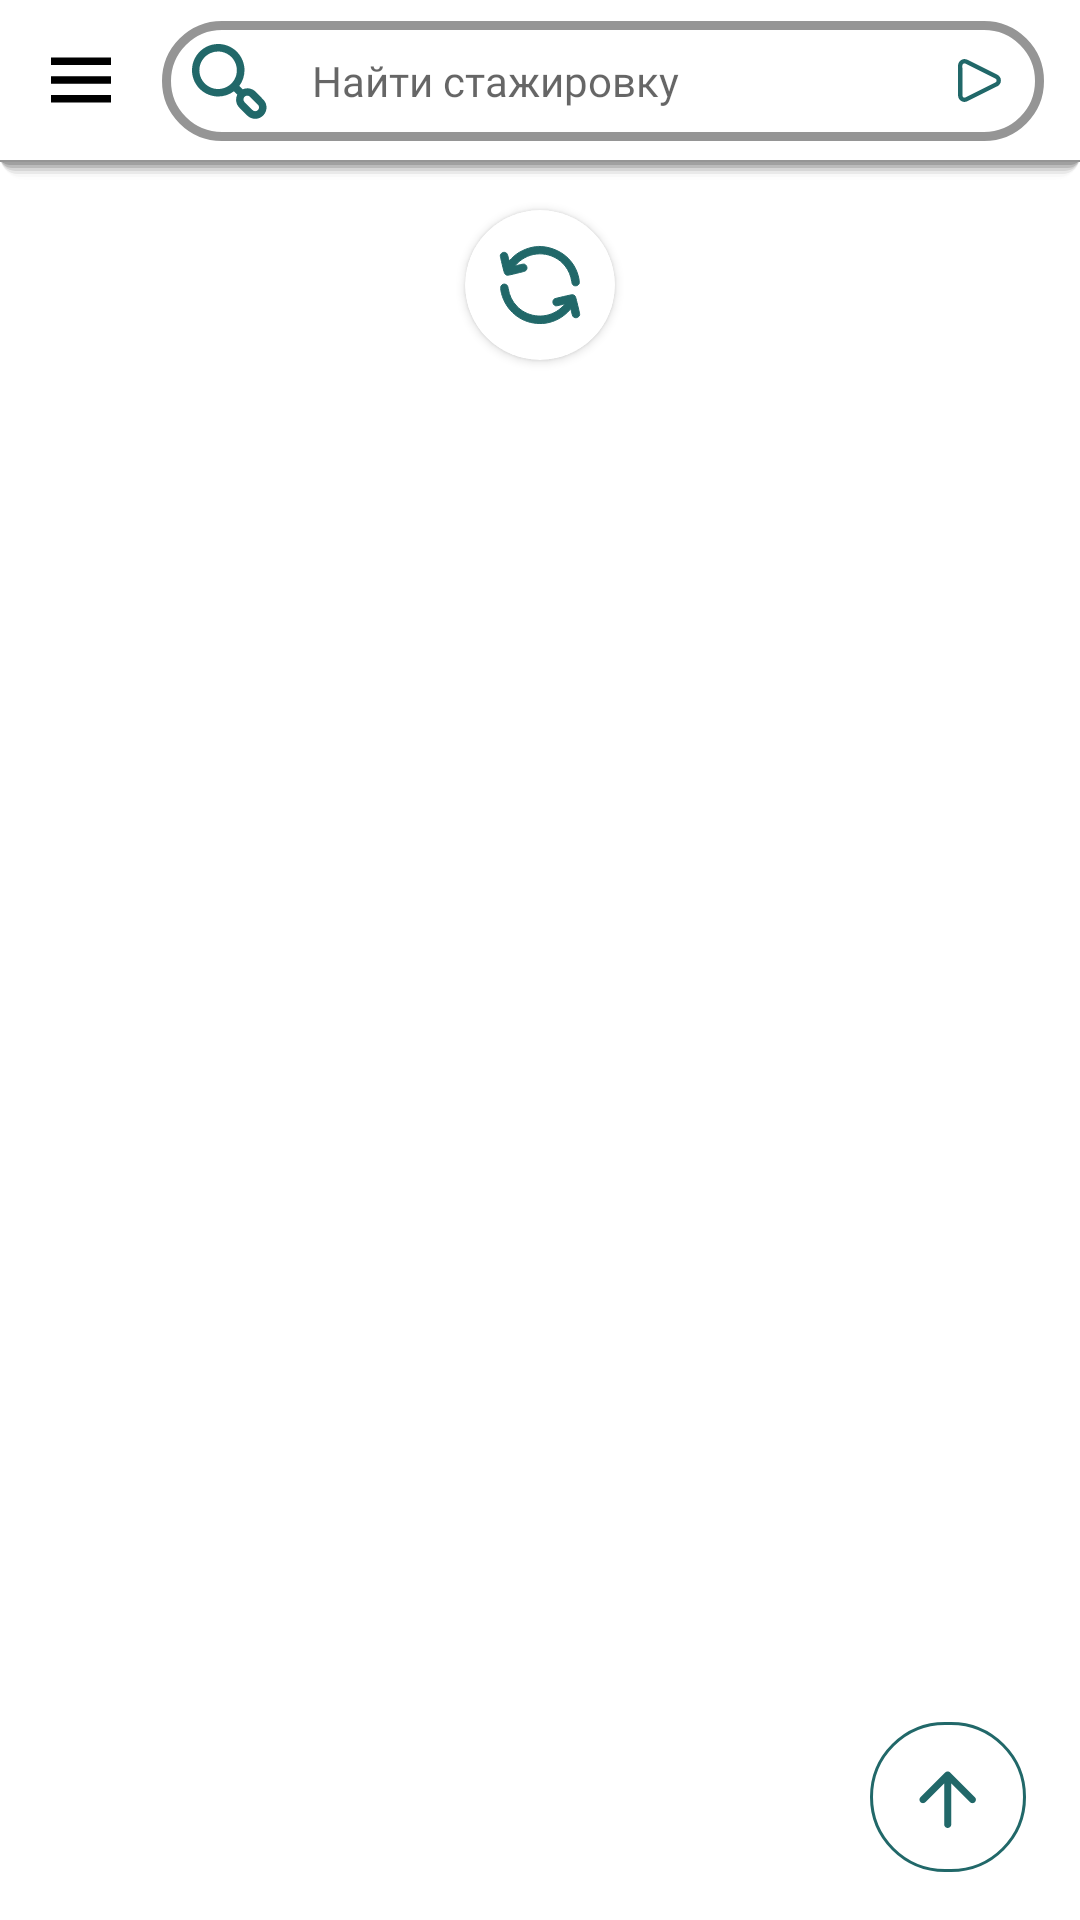

Icons on this 1080w x 1920h Android screen, each with the point to tap as [x,y]:
arrows: [540,303]
loupe: [229,81]
other triangle: [979,80]
three line: [81,80]
